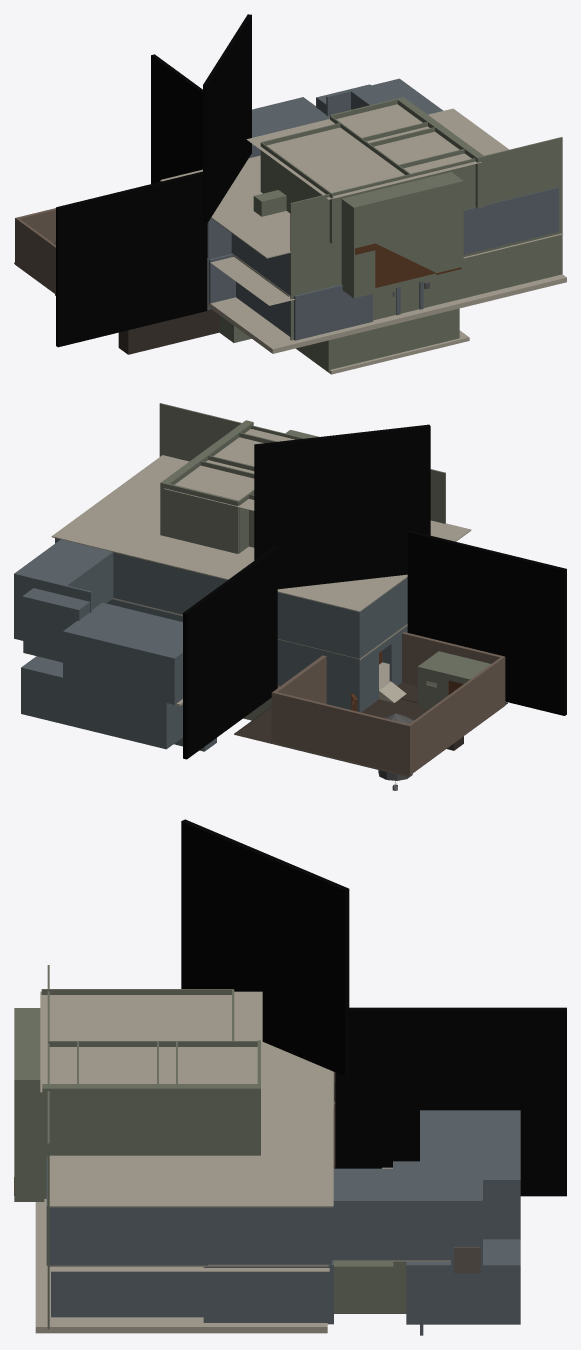
Rendered from haunted_house.glb.
The picture shows the model from 3 angles, top to bottom: view 1: azimuth 30°, elevation 25°; view 2: azimuth 150°, elevation 25°; view 3: azimuth 270°, elevation 25°; orthographic projection. The views are drawn at different scales.
Visible parts, largest first — view 1: black_wall_2, Cube.047, Plane.009, Plane.007, black_wall_3, Plane.005, black_wall, Cube.095, Plane.013, Walls.005, Plane.011, Plane.016 (+13 smaller); view 2: black_wall_3, black_wall_2, Plane.016, black_wall, Plane.005, Walls.009, Walls.011, Walls, Plane.006, Walls.007, Walls.002, Walls.010 (+7 smaller); view 3: black_wall, black_wall_3, Plane.005, Plane.007, Plane.006, Walls.008, Walls.005, Walls.009, Walls.011, Walls.004, Walls.006, Walls.007 (+10 smaller).
Part boxes in pixels (left/top/right/bottom): black_wall_2: left=56, top=171, right=207, bottom=347; Cube.047: left=290, top=137, right=562, bottom=340; Plane.009: left=341, top=172, right=463, bottom=298; Plane.007: left=246, top=104, right=481, bottom=199; black_wall_3: left=203, top=14, right=251, bottom=223; Plane.005: left=160, top=108, right=508, bottom=258; black_wall: left=151, top=54, right=202, bottom=183; Cube.095: left=296, top=308, right=459, bottom=372; Plane.013: left=208, top=274, right=566, bottom=353; Walls.005: left=463, top=187, right=558, bottom=254; Plane.011: left=236, top=281, right=372, bottom=340; Plane.016: left=15, top=208, right=55, bottom=294; black_wall_3: left=254, top=424, right=430, bottom=589; black_wall_2: left=407, top=530, right=566, bottom=715; Plane.016: left=271, top=632, right=505, bottom=775; black_wall: left=183, top=546, right=277, bottom=759; Plane.005: left=51, top=455, right=471, bottom=611; Walls.009: left=63, top=602, right=182, bottom=704; Walls.011: left=21, top=656, right=216, bottom=751; Walls: left=209, top=575, right=407, bottom=658; Plane.006: left=160, top=420, right=253, bottom=553; Walls.007: left=106, top=599, right=407, bottom=705; Walls.002: left=113, top=552, right=208, bottom=614; Walls.010: left=14, top=573, right=91, bottom=662; black_wall: left=335, top=1007, right=566, bottom=1196; black_wall_3: left=181, top=819, right=349, bottom=1076; Plane.005: left=49, top=1042, right=333, bottom=1207; Plane.007: left=40, top=991, right=262, bottom=1092; Plane.006: left=42, top=1040, right=260, bottom=1156; Walls.008: left=332, top=1168, right=450, bottom=1260; Walls.005: left=46, top=1156, right=207, bottom=1265; Walls.009: left=420, top=1110, right=520, bottom=1239; Walls.011: left=406, top=1239, right=520, bottom=1335; Walls.004: left=208, top=1207, right=331, bottom=1264; Walls.006: left=51, top=1271, right=203, bottom=1317; Walls.007: left=203, top=1168, right=333, bottom=1324.
Size of what is drawn, in the model's own units: 52.82 by 31.2 by 42.23.
